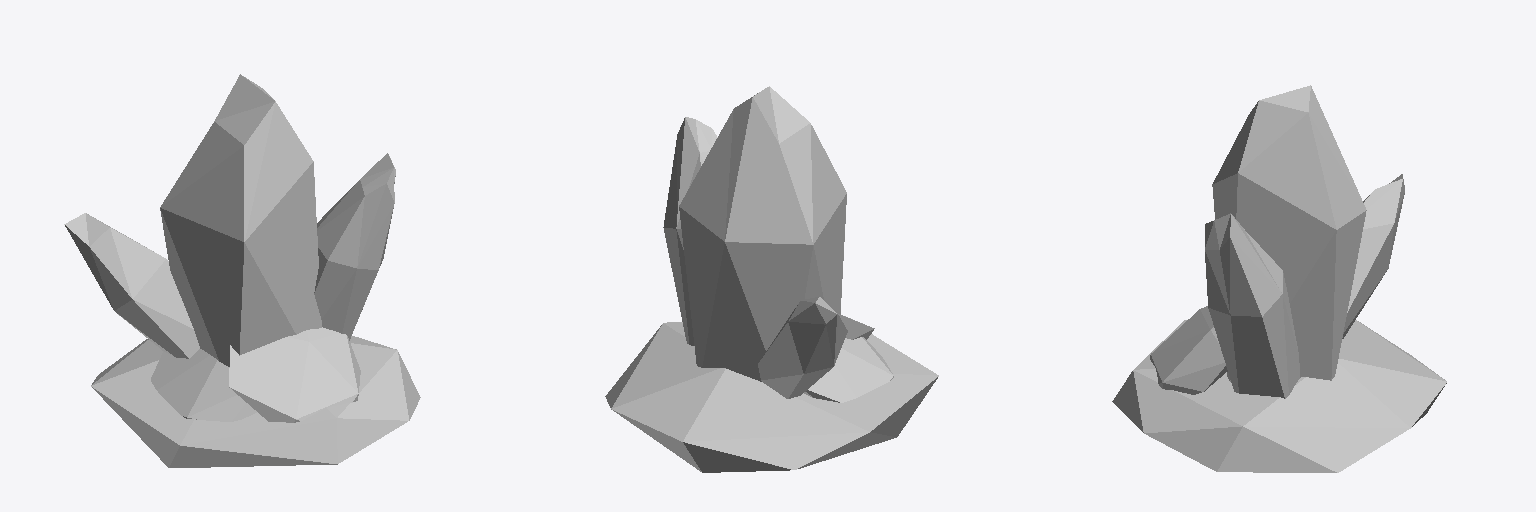
The model's file is mine1.obj.
3 views of the same model, side by side, from view 1: azimuth 30°, elevation 25°; view 2: azimuth 150°, elevation 25°; view 3: azimuth 270°, elevation 25° (orthographic).
Parts seen in each view (by area): view 1: Crystal3_Icosphere.026; view 2: Crystal3_Icosphere.026; view 3: Crystal3_Icosphere.026.
Boxes of the visible parts, x1,y1,x2,y2 form: Crystal3_Icosphere.026: [64, 74, 420, 467]; Crystal3_Icosphere.026: [605, 86, 938, 472]; Crystal3_Icosphere.026: [1112, 85, 1446, 472].
Size of the model in its own units: 0.733 by 0.8932 by 0.7958.